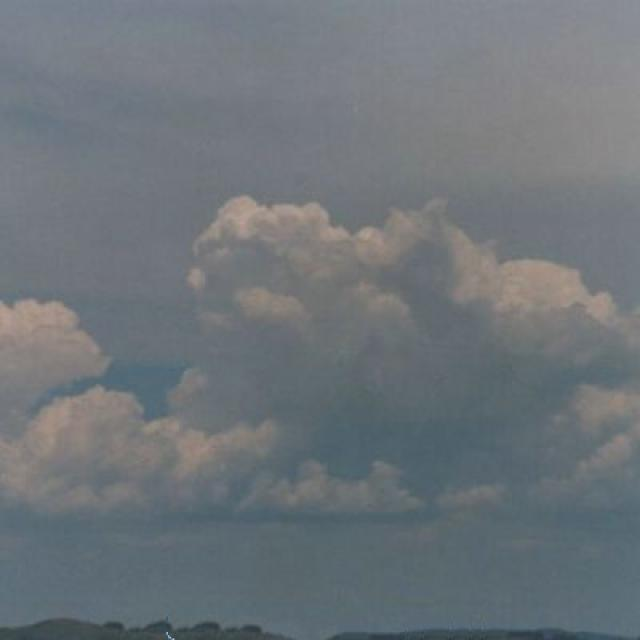Cs: (8, 192, 640, 549)
